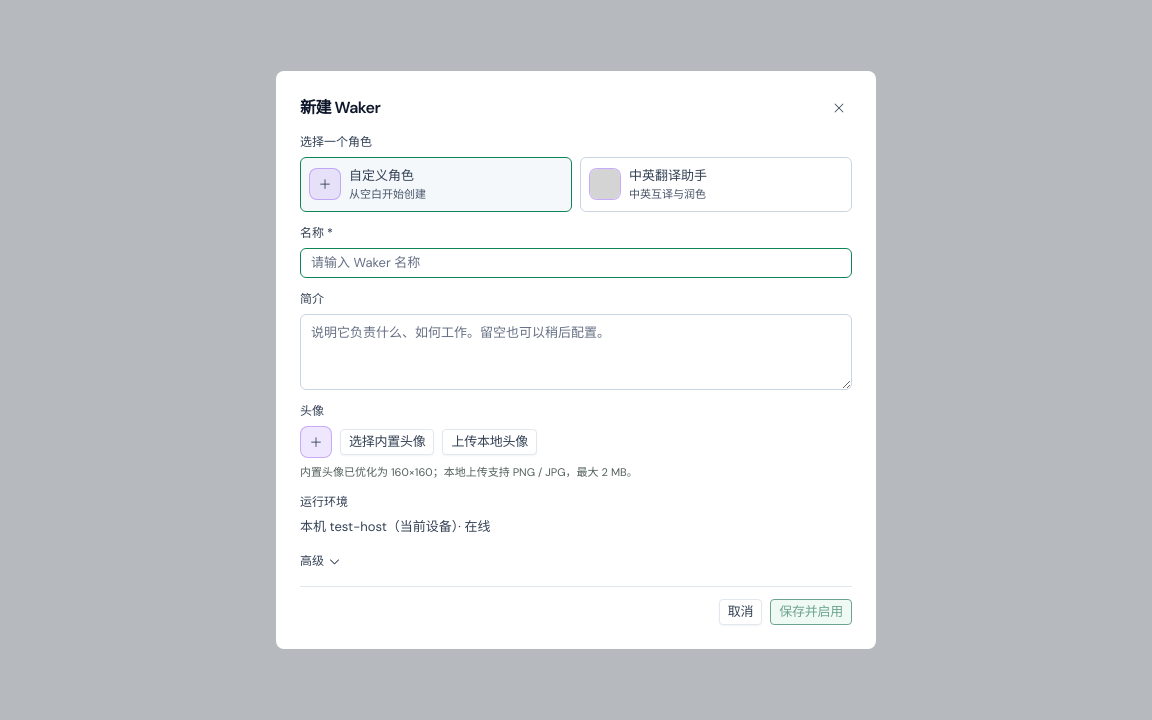
Test: NewAgentDialog › prefills from the selected template and submits its mark, tagline and body
Step 1. Click the option "中英翻译助手 中英互译与润色" → point(605, 184), box top-left (580, 157), bottom-right (852, 212)
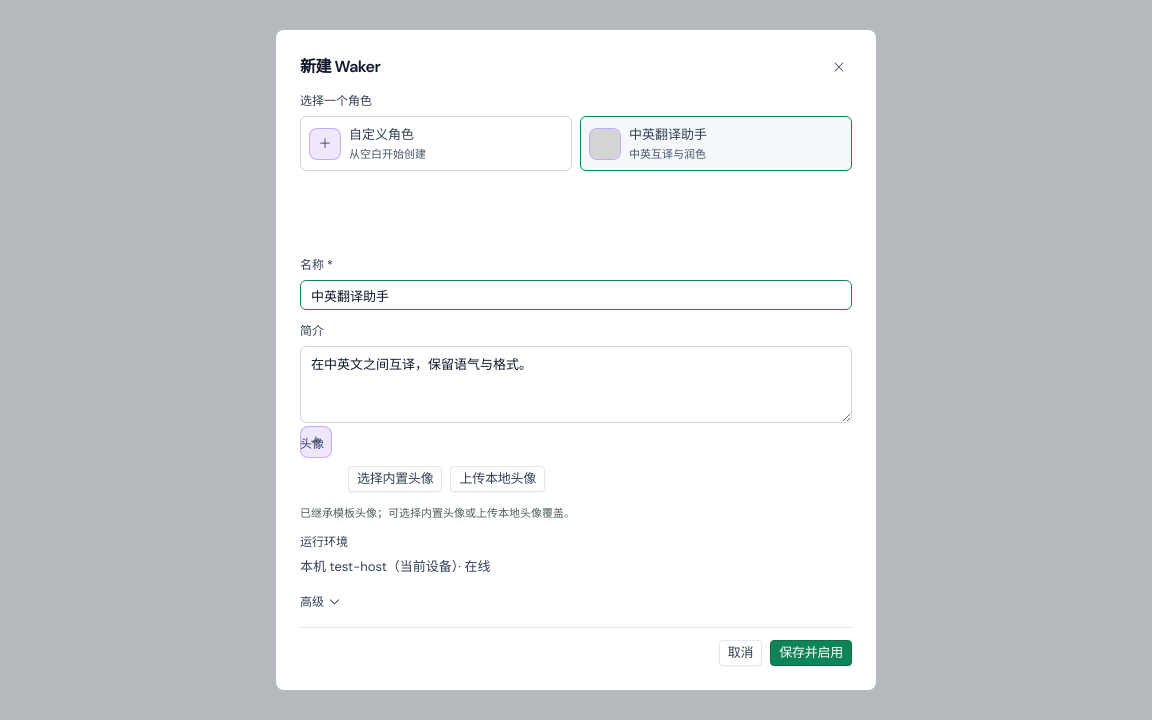
Expected: the text "中英翻译助手" is shown, top-left (629, 125), bottom-right (707, 145)
Result: the text box showing "在中英文之间互译，保留语气与格式。" is shown at top-left (300, 346), bottom-right (852, 423)
Result: the text "已继承模板头像；可选择内置头像或上传本地头像覆盖。" is shown at top-left (300, 506), bottom-right (575, 520)
Step 2. Replace the text in the field with placeholder "请输入 Waker 名称" with "我的翻译" → point(576, 295), box top-left (300, 280), bottom-right (852, 310)
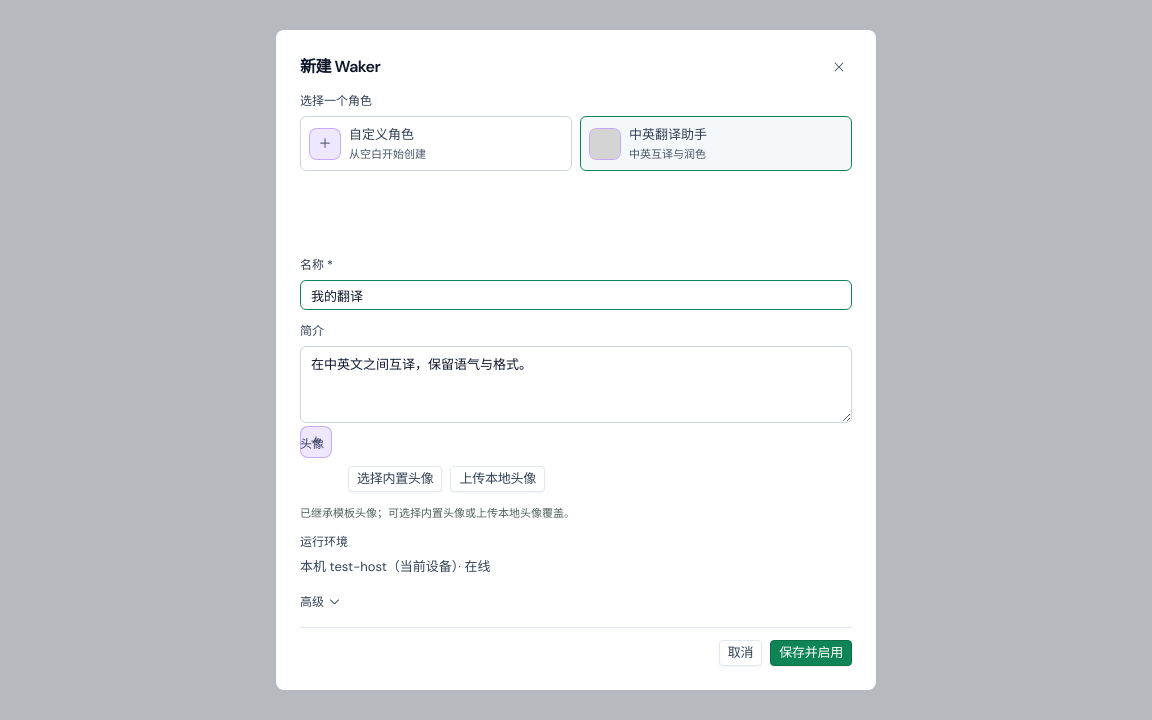
Step 3. Click the button "保存并启用" → point(811, 653), box top-left (770, 640), bottom-right (852, 666)
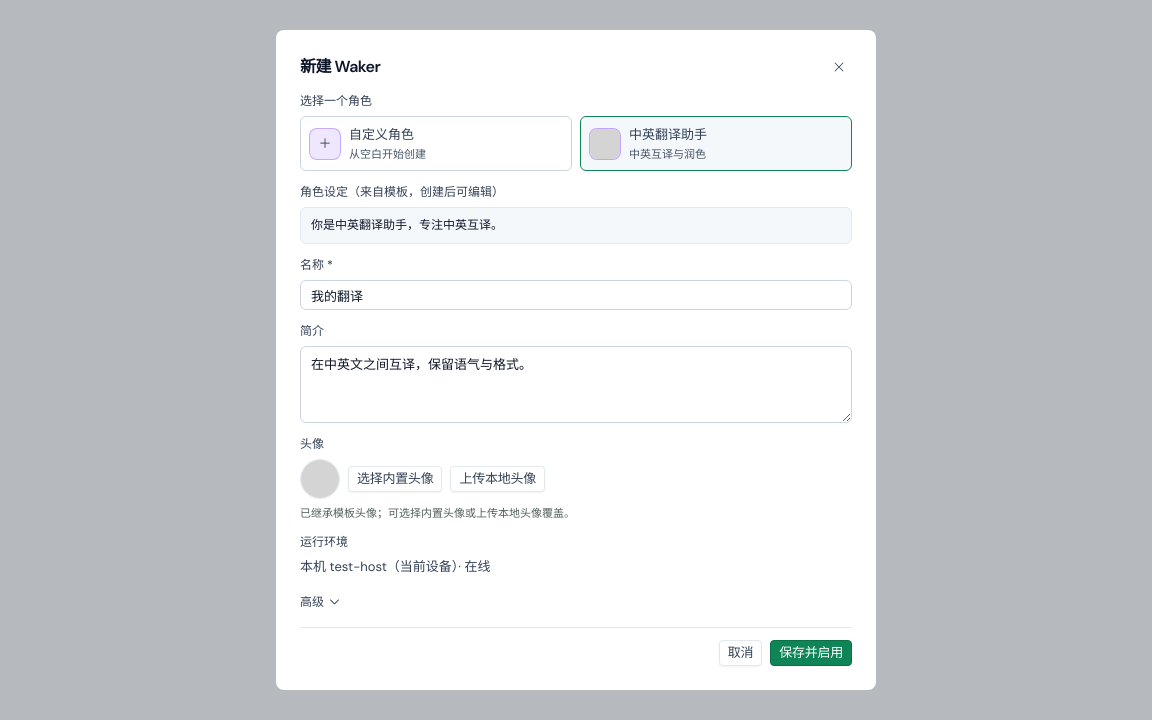
Expected: the text "中英互译与润色" is shown, top-left (629, 146), bottom-right (707, 162)
Result: the text "你是中英翻译助手，专注中英互译。" is shown at top-left (300, 207), bottom-right (852, 244)
